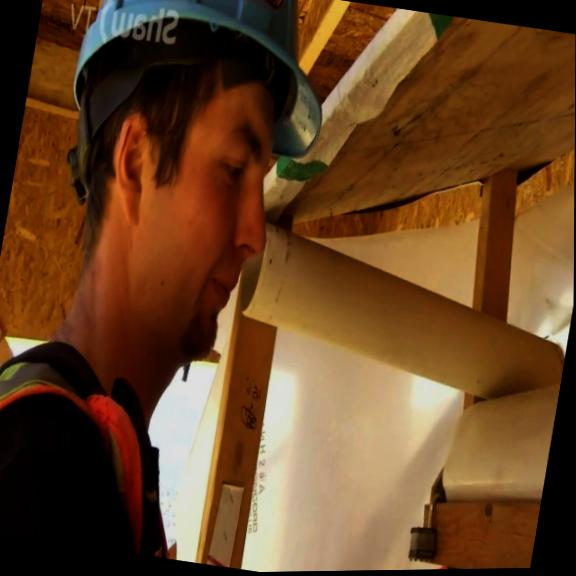safety_vest: (0, 349, 202, 562)
